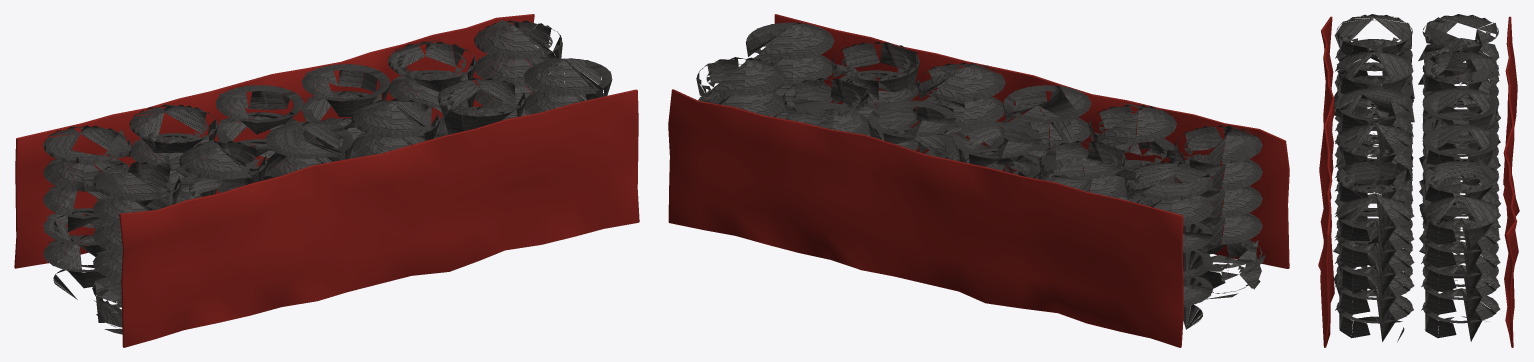
The model's file is tyres.glb.
3 renders of one model, left to right at view 1: azimuth 30°, elevation 25°; view 2: azimuth 150°, elevation 25°; view 3: azimuth 270°, elevation 25°, orthographic. The views are drawn at different scales.
Visible parts, largest first — view 1: body_01, body_00; view 2: body_01, body_00; view 3: body_00, body_01.
Boxes of the visible parts, box(x1,y1,x2,y2) form: body_01: box(14, 14, 639, 347); body_00: box(43, 20, 612, 334); body_01: box(668, 14, 1289, 347); body_00: box(696, 22, 1266, 329); body_00: box(1333, 14, 1500, 342); body_01: box(1318, 16, 1519, 347).
Size of the model in its own units: 5.02 by 1.55 by 1.96.
Materials: 2 (1 with a texture image).
